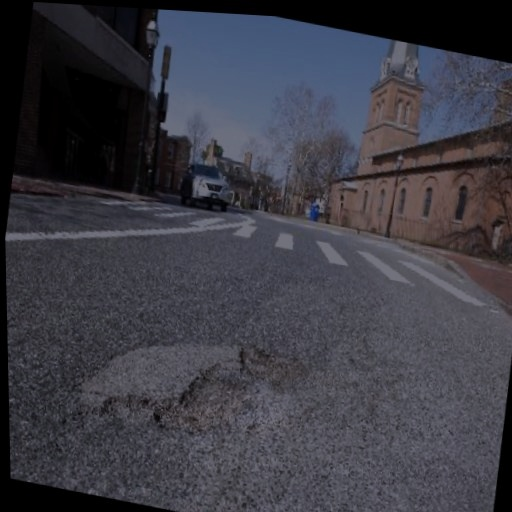pothole: (145, 354, 246, 450), (233, 338, 313, 395)
